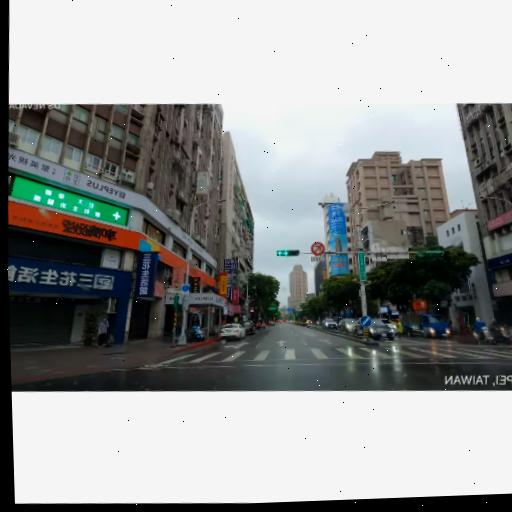Car: (398, 310, 452, 339), (354, 317, 395, 342), (367, 315, 397, 335), (219, 322, 245, 340), (337, 316, 363, 334), (234, 318, 256, 335), (320, 315, 339, 330), (254, 318, 265, 329), (306, 317, 312, 324), (314, 319, 321, 324), (267, 320, 273, 325), (279, 318, 284, 323), (291, 319, 294, 322)
